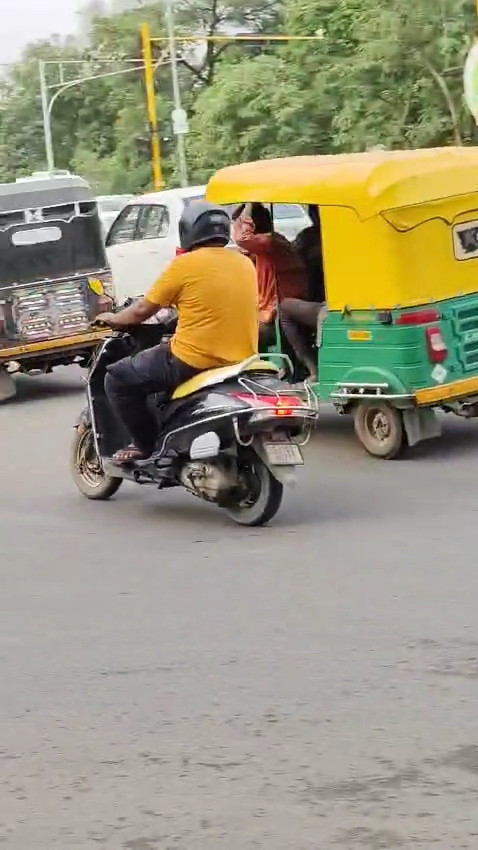BikeWithRider: (56, 188, 325, 535)
Helmet: (174, 192, 242, 251)
